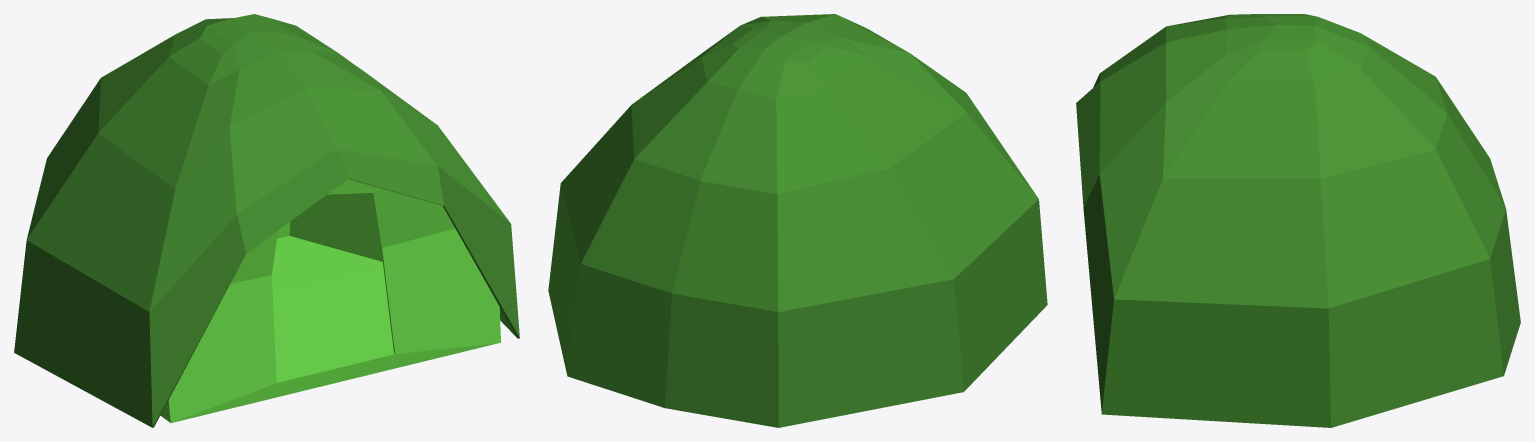
File: Tent_02.fbx
3 renders of one model, left to right at view 1: azimuth 30°, elevation 25°; view 2: azimuth 150°, elevation 25°; view 3: azimuth 270°, elevation 25°, orthographic. The views are drawn at different scales.
Parts seen in each view (by area): view 1: Tent_02; view 2: Tent_02; view 3: Tent_02.
Boxes of the visible parts, x1,y1,x2,y2 form: Tent_02: (14,14,519,427); Tent_02: (548,14,1047,427); Tent_02: (1076,14,1520,427).
Bounding box in the file's own units: 299 × 197 × 266.
